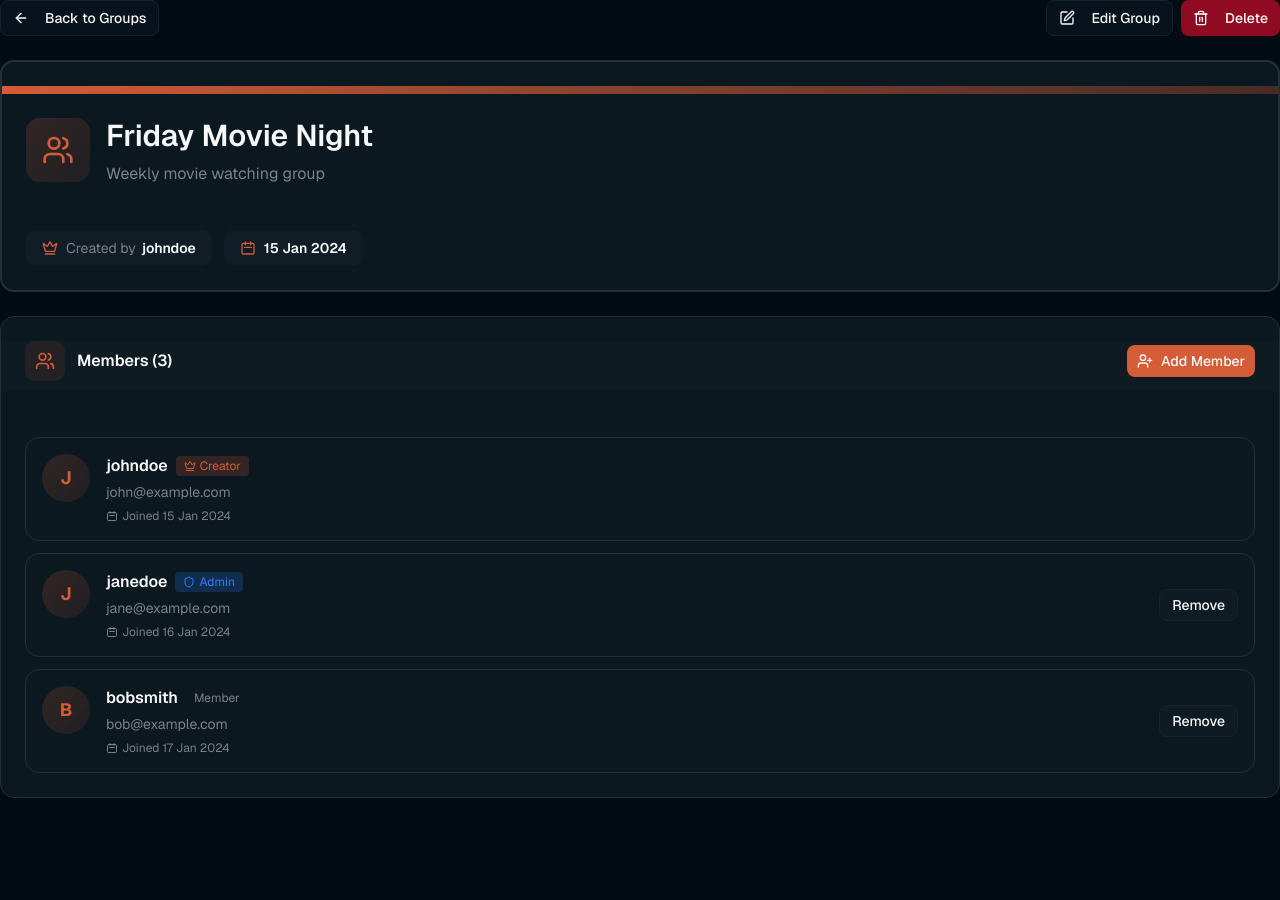
Scenario: GroupDetail › opens delete dialog when delete button is clicked
Expected: the text "Friday Movie Night" is shown, [106,116,373,155]
Click the button "Delete". click: (1230,18)
box: [1181,0,1279,36]
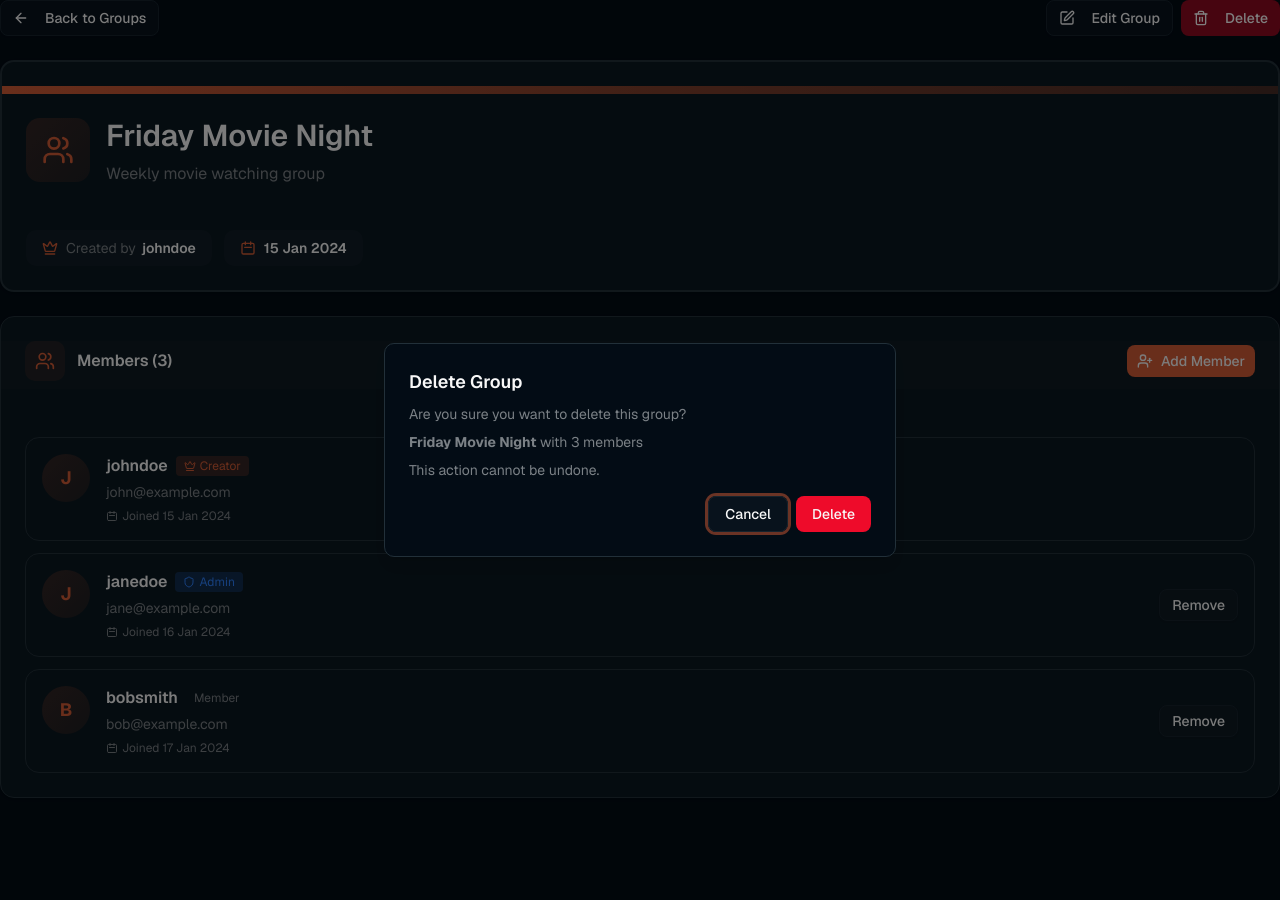
Result: the heading "Delete Group" is shown at [409,370,522,393]
Result: the text "Are you sure you want to delete this group?" is shown at [409,405,686,423]
